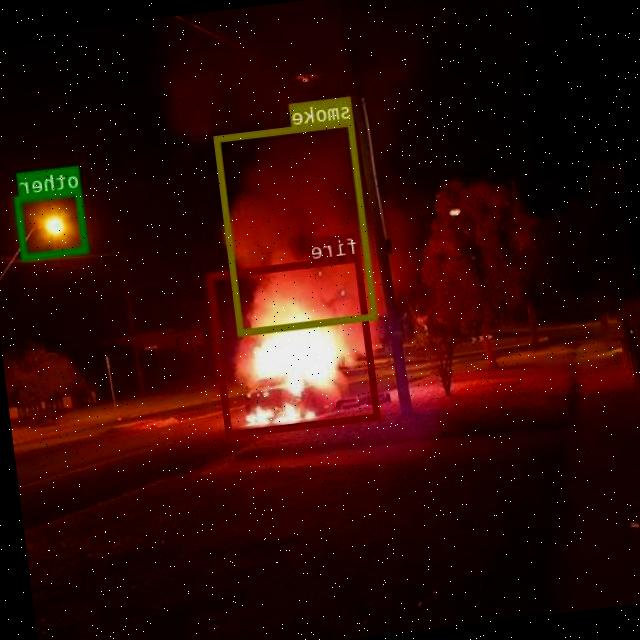fire: (208, 253, 381, 437)
smoke: (215, 118, 378, 334)
